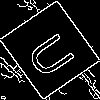U: (25, 25, 85, 82)
